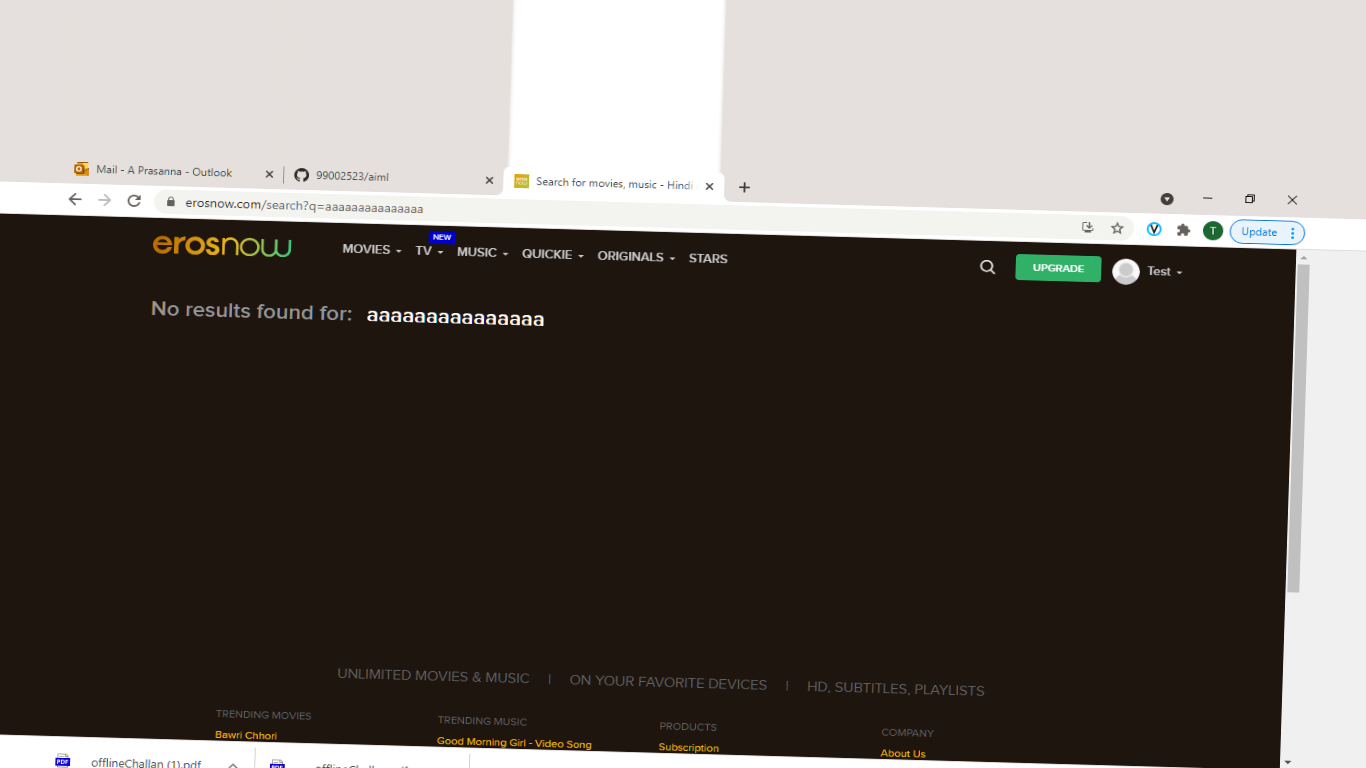noresultsfound: (134, 283, 555, 353)
profileicon: (1103, 248, 1194, 296)
searchicon: (971, 253, 998, 285)
